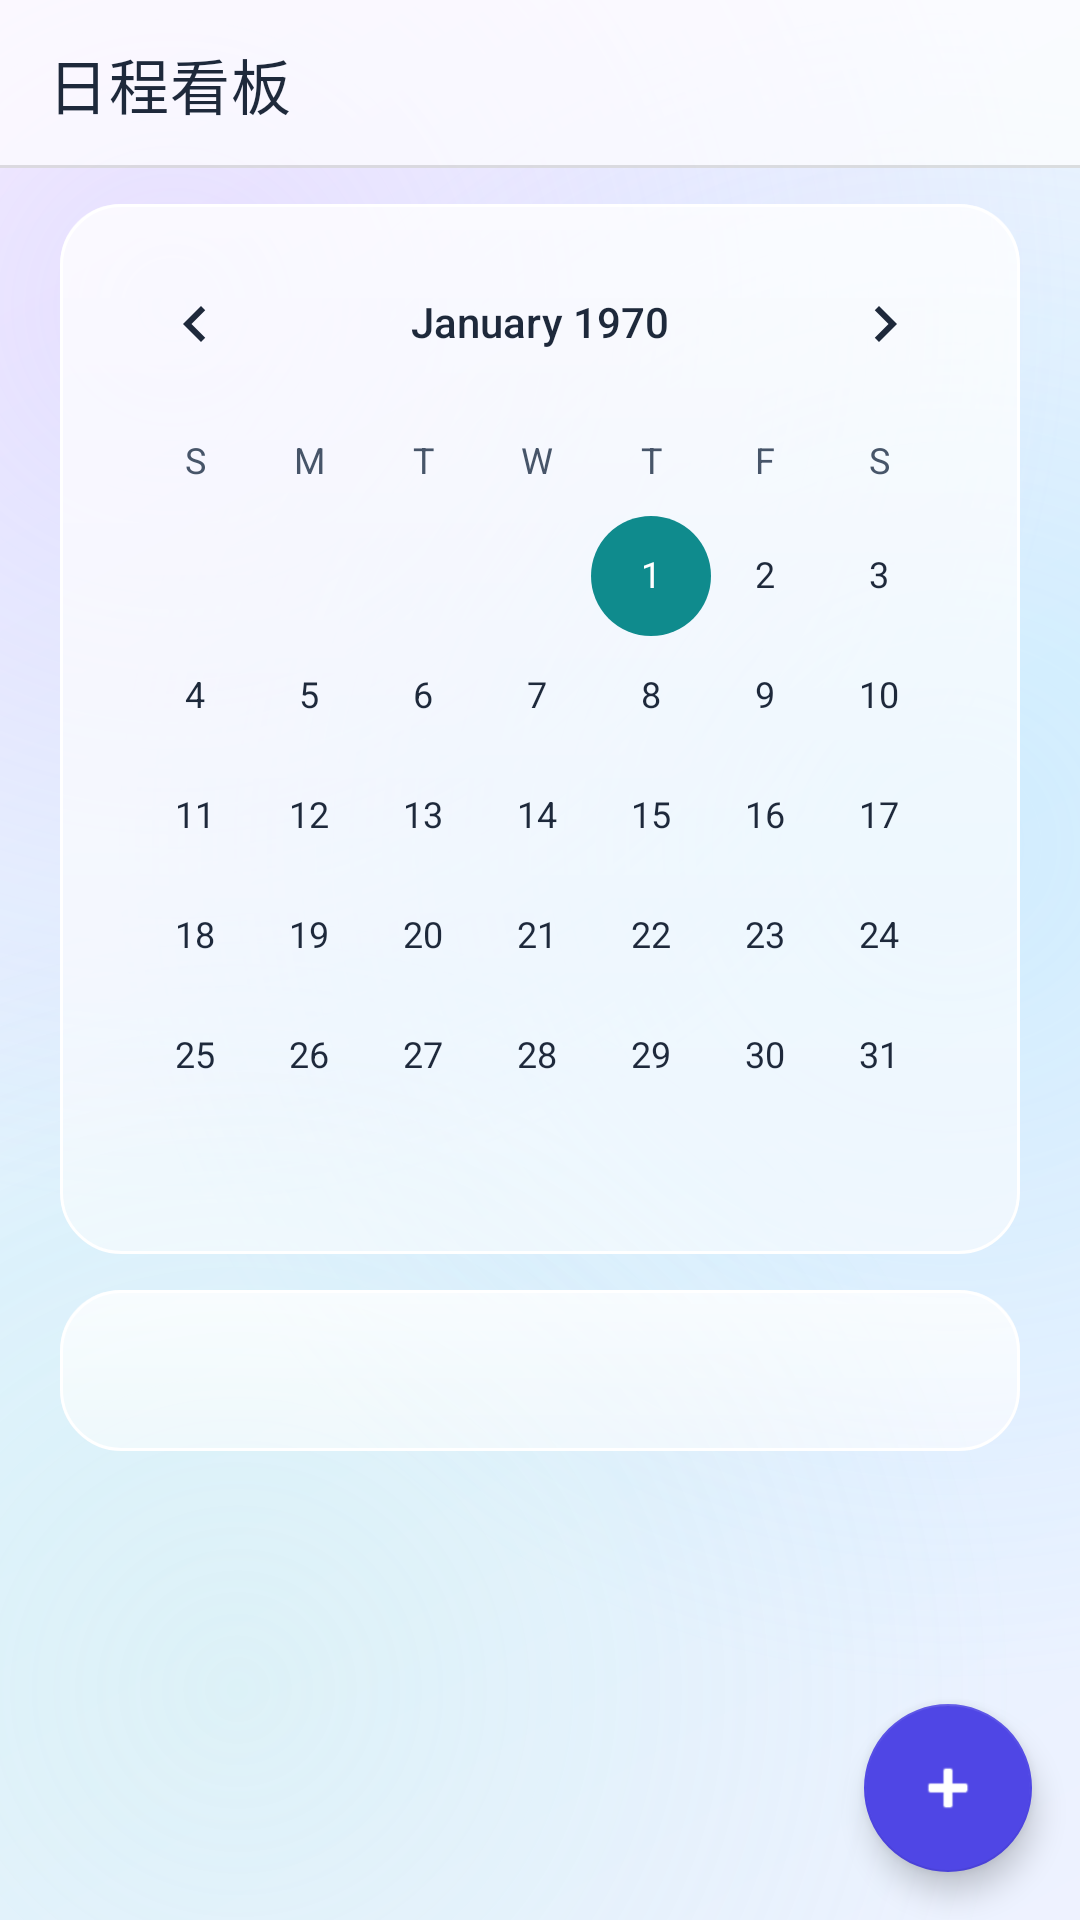

Icon bounding boxes for this 1080×1920 phone screenshot, format bbox=[x1, y1, x2, y2]:
新增日程: bbox=[864, 1704, 1032, 1872]
